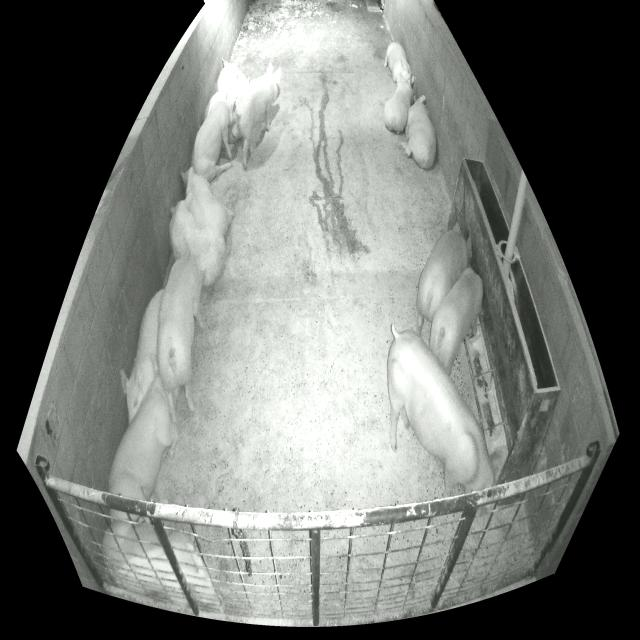pig: (388, 324, 494, 497), (108, 354, 177, 501), (103, 519, 215, 609), (156, 257, 202, 419), (416, 223, 472, 336), (120, 289, 164, 425), (429, 268, 483, 375), (170, 194, 225, 285), (236, 63, 281, 170), (191, 89, 238, 182), (182, 167, 234, 240), (397, 95, 436, 169), (384, 72, 414, 133), (216, 59, 251, 99), (384, 42, 411, 86), (204, 92, 226, 121)
